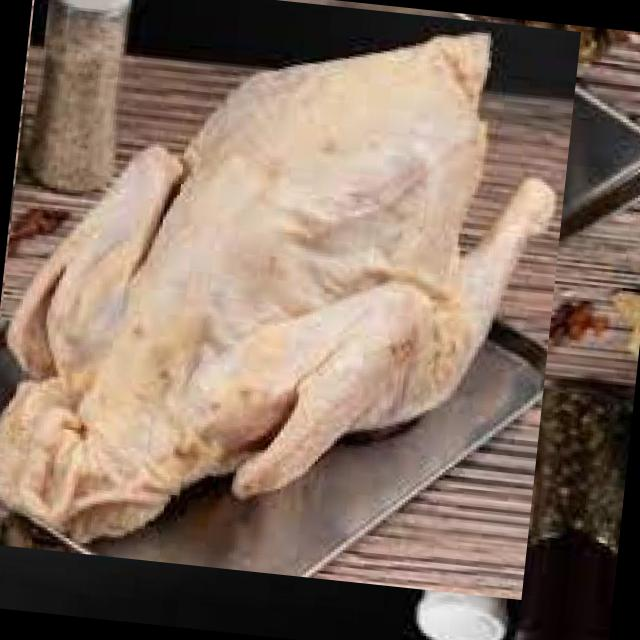chicken: (0, 0, 581, 600)
